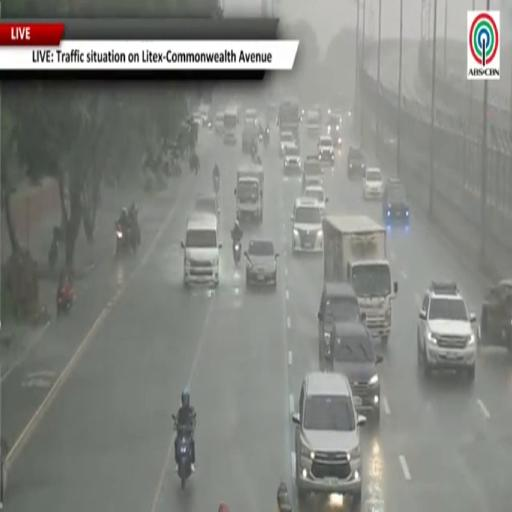car: (292, 372, 366, 507), (417, 282, 476, 381), (327, 322, 383, 423), (318, 282, 365, 364), (478, 280, 511, 353), (291, 198, 323, 252), (245, 239, 278, 286), (382, 179, 410, 225), (304, 185, 328, 216), (303, 155, 323, 191), (363, 168, 384, 199), (194, 194, 220, 219), (347, 147, 366, 179), (327, 110, 342, 148), (317, 136, 335, 166), (283, 144, 301, 173), (306, 106, 322, 136), (279, 132, 297, 157), (302, 175, 323, 194), (198, 104, 209, 125), (215, 111, 224, 135), (223, 132, 237, 146), (245, 109, 257, 125), (192, 111, 203, 126)
motorcycle: (173, 415, 193, 489), (116, 222, 136, 257), (48, 227, 62, 270), (57, 286, 74, 315), (48, 237, 59, 270), (233, 239, 241, 265), (213, 176, 220, 195), (264, 130, 269, 148), (207, 120, 213, 132), (258, 133, 263, 141)
truck: (323, 216, 398, 343), (234, 163, 263, 222), (278, 101, 300, 146), (224, 107, 238, 145), (242, 124, 257, 154)
